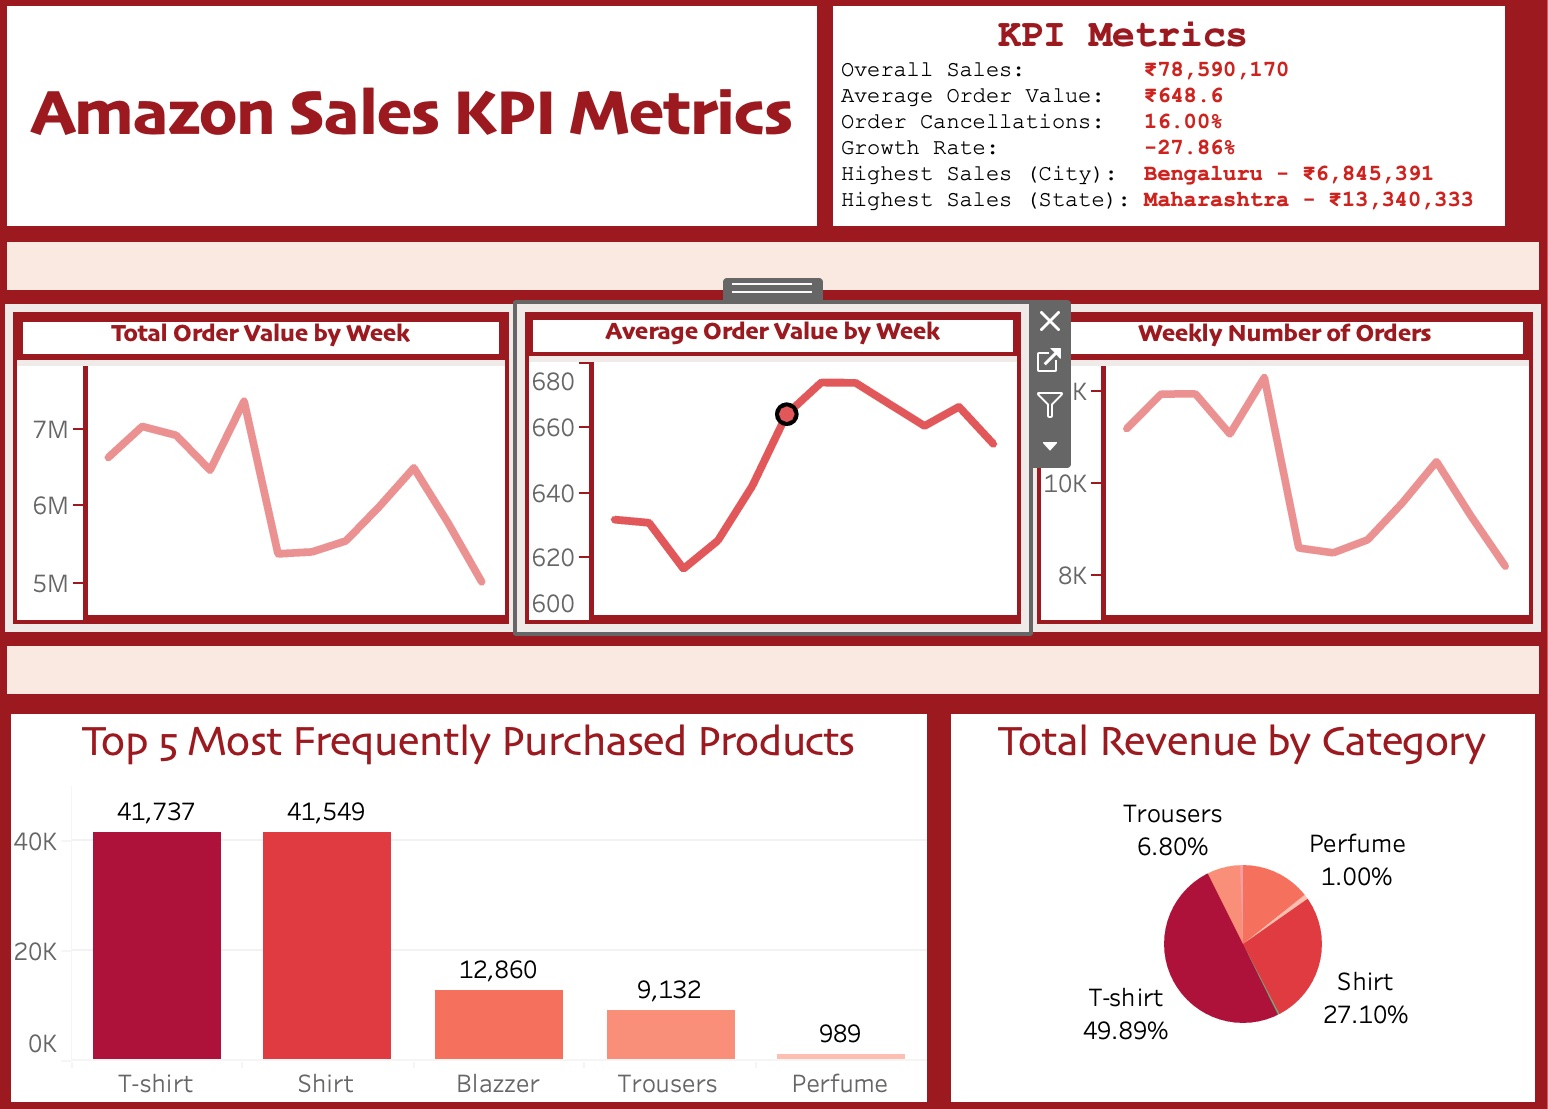

The dashboard page shown, as its layout file describes it:
{"tool":"tableau","page":{"name":"KPI DB","canvas":[1000,1000],"units":"permille","ordinal":1},"visuals":[{"type":"text","box":[16.2,22.3,516.2,202.1]},{"type":"worksheet","title":"KPI Metrics","mark":"Automatic","cols":["Calculation_1638184388806111240"],"box":[532.5,22.3,451.2,202.1]},{"type":"blank","box":[16.2,224.3,967.5,54.8]},{"type":"worksheet","title":"Total - Time","mark":"Automatic","rows":["amount"],"cols":["order_date"],"box":[20,284.2,320,280.8]},{"type":"worksheet","title":"Avg - Time ","mark":"Automatic","rows":["amount"],"cols":["order_date"],"box":[340,284.2,320,280.8]},{"type":"worksheet","title":"# Orders - Time","mark":"Automatic","rows":["idx"],"cols":["order_date"],"box":[660,284.2,320,280.8]},{"type":"blank","box":[16.2,570.2,967.5,54]},{"type":"worksheet","title":"5 Top Selling","mark":"Automatic","rows":["idx"],"cols":["category"],"box":[16.2,624.2,587.5,353.6]},{"type":"worksheet","title":"Sales by Product","mark":"Pie","box":[603.8,624.2,380,353.6]}]}

Visuals, with their boxes on the dashboard's canvas, which has no fixed pixel size, in thousandths of its width and height (x1, y1, x2, y2). These are canvas units, not pixel positions in the 1548x1109 screenshot, which may show the page scaled, cropped or inside an application window:
text: bbox(16, 22, 532, 224)
"KPI Metrics" worksheet: bbox(532, 22, 984, 224)
blank: bbox(16, 224, 984, 279)
"Total - Time" worksheet: bbox(20, 284, 340, 565)
"Avg - Time " worksheet: bbox(340, 284, 660, 565)
"# Orders - Time" worksheet: bbox(660, 284, 980, 565)
blank: bbox(16, 570, 984, 624)
"5 Top Selling" worksheet: bbox(16, 624, 604, 978)
"Sales by Product" worksheet (Pie marks): bbox(604, 624, 984, 978)
